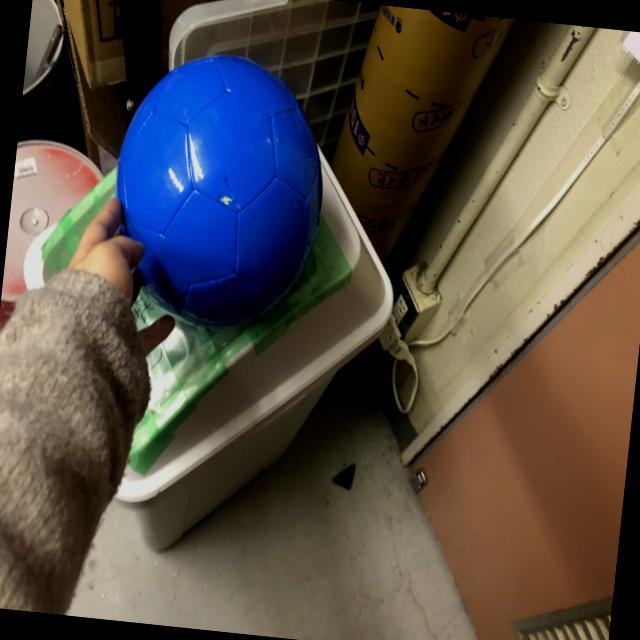blue_ball: (95, 48, 332, 338)
